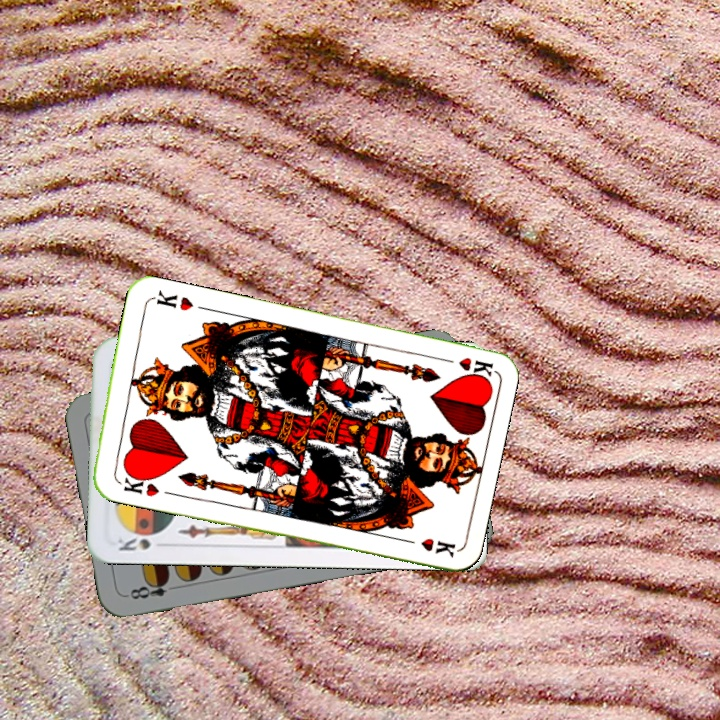E8: (123, 574, 182, 602)
HK: (435, 353, 495, 383), (119, 468, 162, 500)
SK: (114, 532, 153, 553)
